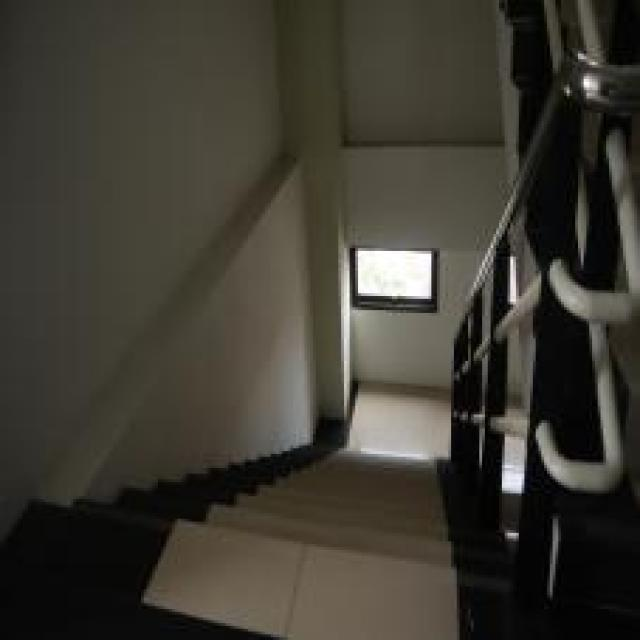downstair: (269, 464, 449, 622)
